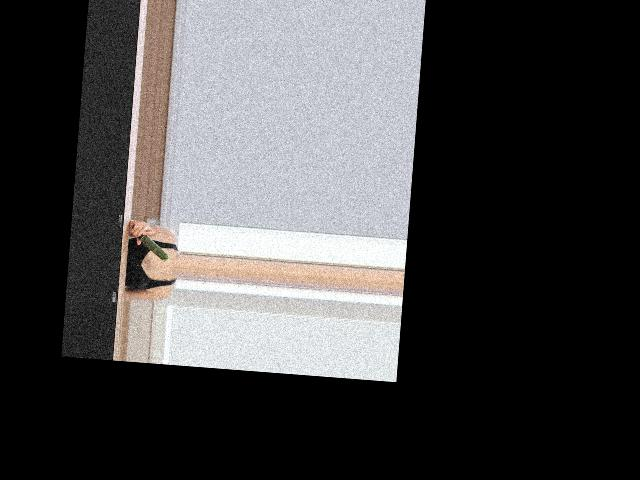cucumber: (129, 224, 171, 260)
